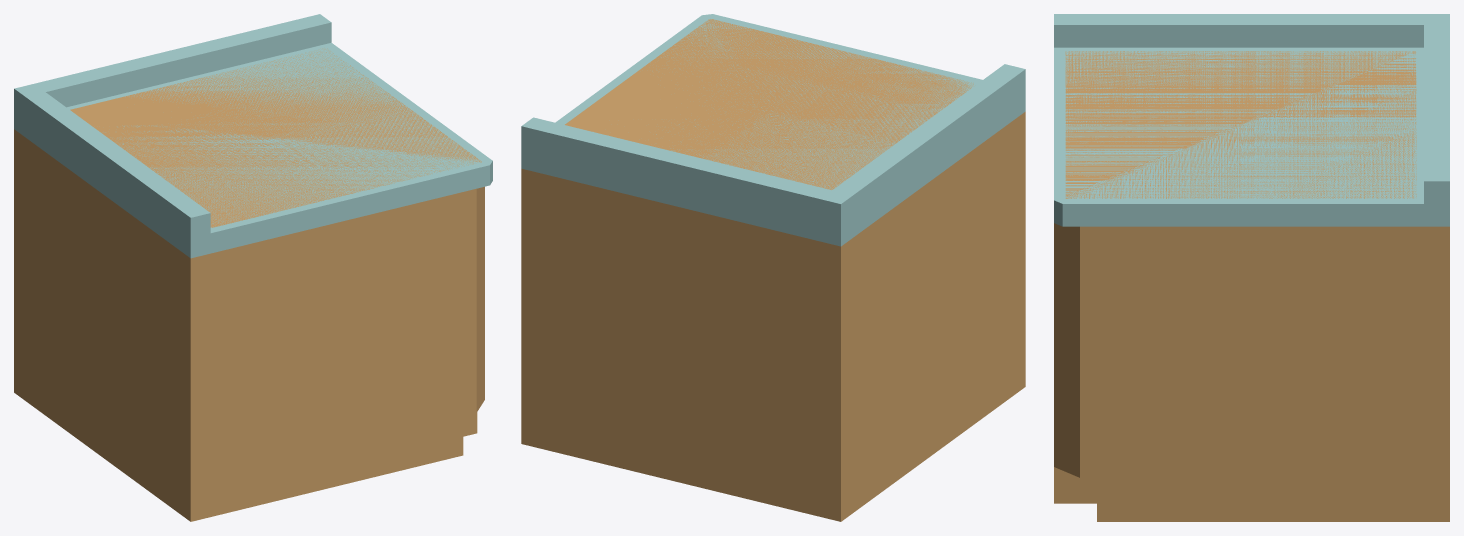
File: f_counter_corner.glb
3 renders of one model, left to right at view 1: azimuth 30°, elevation 25°; view 2: azimuth 150°, elevation 25°; view 3: azimuth 270°, elevation 25°, orthographic. The views are drawn at different scales.
Visible parts, largest first — view 1: body, surface_1; view 2: body, surface_1; view 3: body, surface_1.
Boxes of the visible parts, x1,y1,x2,y2 form: body: (14, 14, 492, 521); surface_1: (70, 48, 481, 227); body: (521, 14, 1025, 521); surface_1: (565, 19, 973, 189); body: (1054, 14, 1449, 521); surface_1: (1065, 51, 1416, 198).
Bounding box in the file's own units: 0.9475 × 0.9 × 0.9475.
